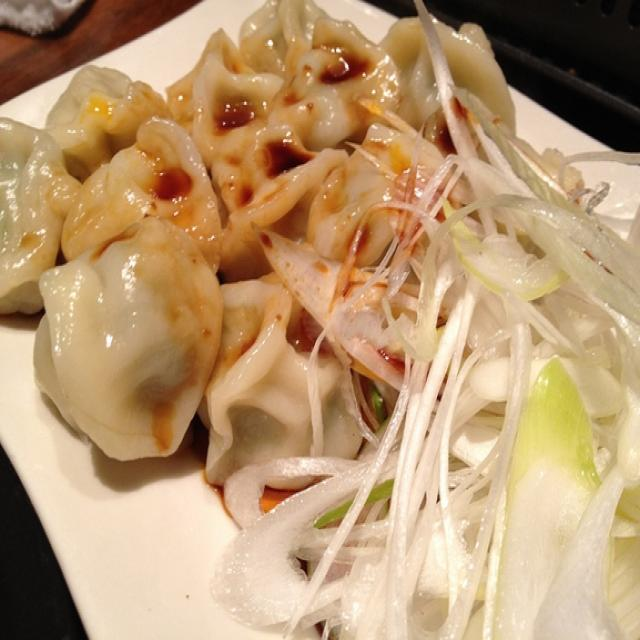带馅早点: (11, 13, 621, 618)
